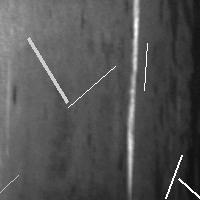scratches: (165, 1, 200, 200), (123, 1, 143, 198), (23, 33, 72, 107), (63, 61, 120, 112), (160, 150, 186, 200), (139, 38, 152, 95), (173, 173, 200, 200), (0, 170, 23, 200)
